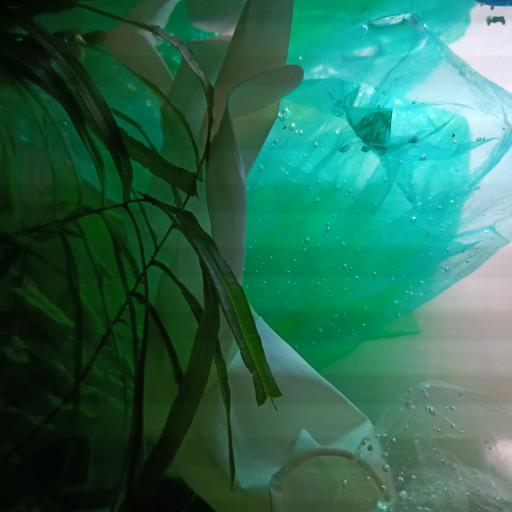glove: (103, 0, 399, 512)
plastic_bag: (3, 16, 512, 368), (331, 380, 512, 512)
